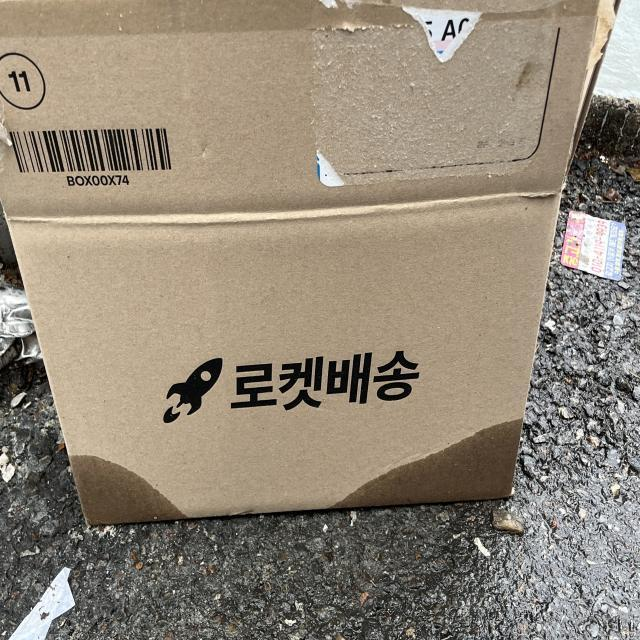wet: (331, 423, 521, 515), (67, 440, 190, 534)
